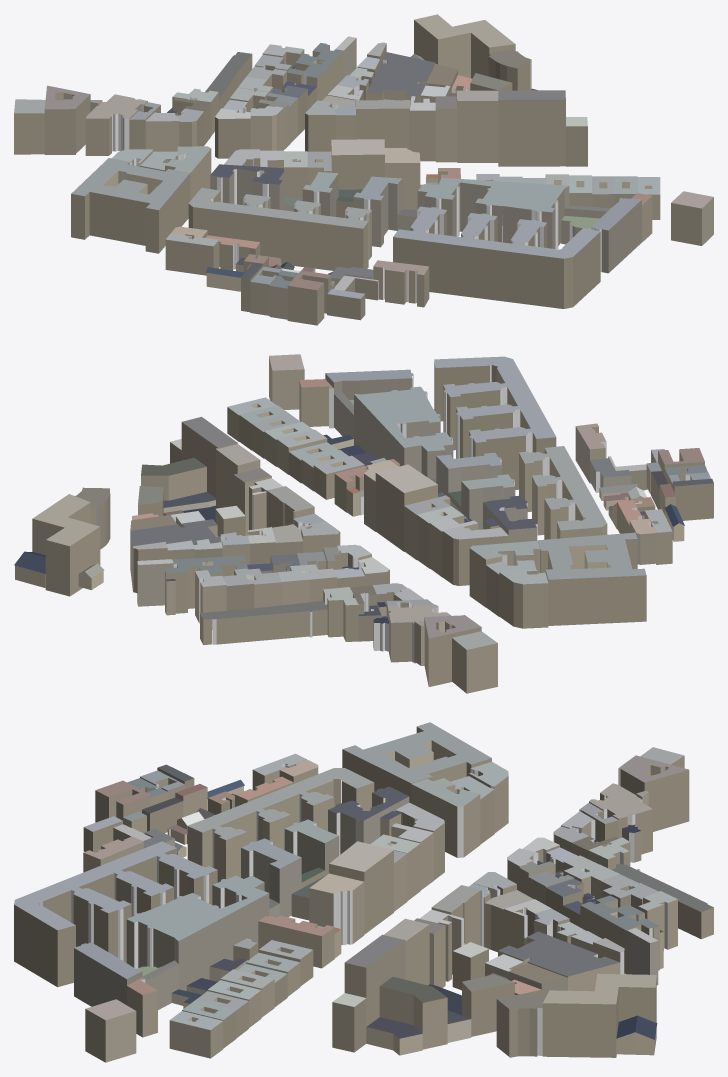
3 renders of one model, top to bottom at view 1: azimuth 30°, elevation 25°; view 2: azimuth 150°, elevation 25°; view 3: azimuth 270°, elevation 25°, orthographic. The views are drawn at different scales.
Visible parts, largest first — view 1: tuile; view 2: tuile; view 3: tuile.
Boxes of the visible parts, box(x1,y1,x2,y2) form: tuile: box(14, 14, 713, 325); tuile: box(14, 354, 713, 693); tuile: box(14, 722, 713, 1062).
Bounding box in the file's own units: 292 × 37.85 × 313.
